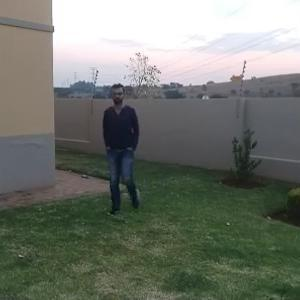follow: (99, 82, 141, 204)
